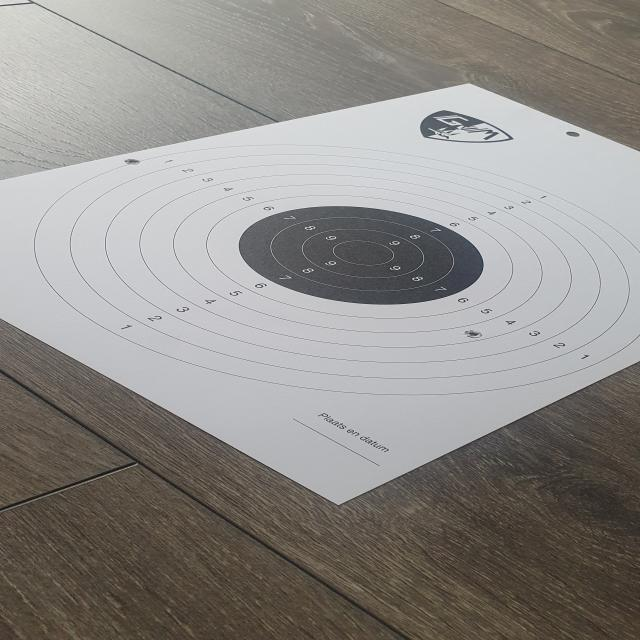1: (123, 158, 143, 166)
5: (462, 329, 482, 338)
Black Contour: (237, 204, 484, 306)
Target: (29, 141, 640, 397)
